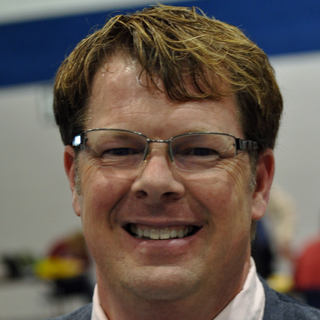eye: (172, 141, 226, 166), (97, 141, 147, 166)
